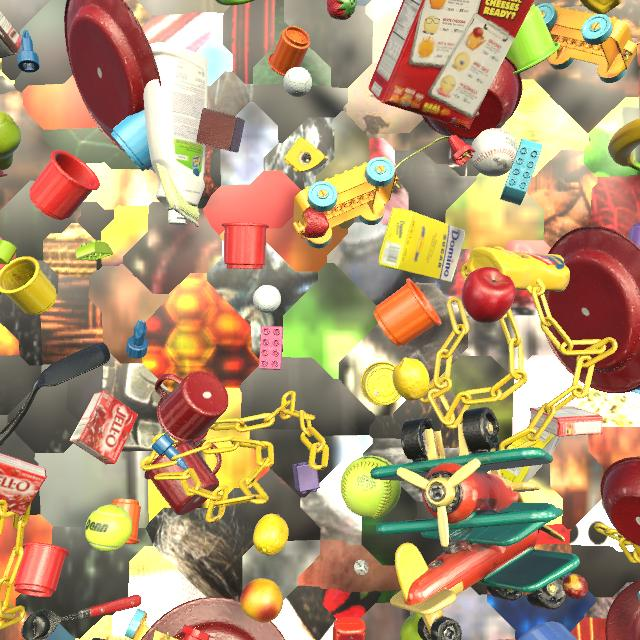ycb_003_cracker_box: (368, 0, 534, 130)
ycb_004_sugar_box: (378, 207, 465, 282), (500, 427, 562, 483)
ycb_006_mustard_bottle: (467, 247, 570, 292), (580, 0, 621, 14)
ycb_008_pudding_box: (0, 11, 22, 58)
ycb_009_gelatin_box: (69, 390, 138, 465), (0, 453, 47, 515), (530, 406, 603, 437)
ycb_011_banana: (608, 118, 640, 171)
ycb_012_strawberry: (298, 208, 329, 238), (327, 0, 357, 20)
ycb_013_apple: (462, 267, 516, 323)
ycb_014_lemon: (393, 357, 430, 400), (253, 514, 289, 555)
ycb_015_peach: (240, 578, 283, 623)
ycb_016_pear: (0, 111, 21, 170), (400, 613, 422, 640)
